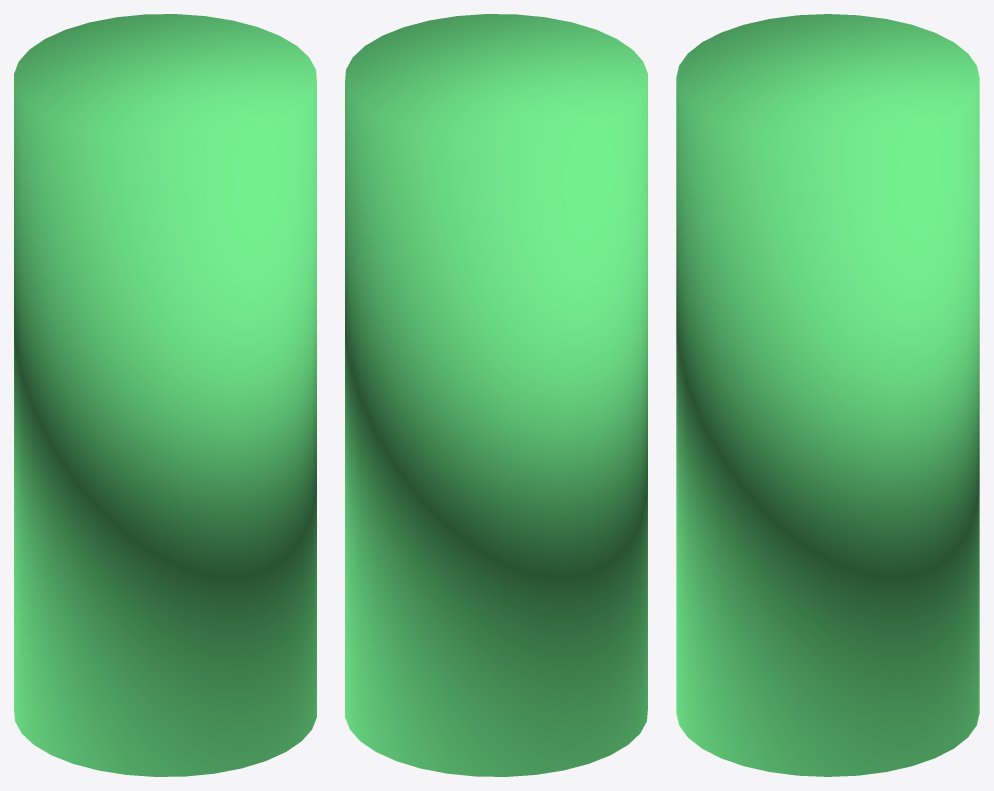
The model's file is CROSSOVER_Suspension_Spring_FL.glb.
3 views of the same model, side by side, from view 1: azimuth 30°, elevation 25°; view 2: azimuth 150°, elevation 25°; view 3: azimuth 270°, elevation 25° (orthographic).
Parts seen in each view (by area): view 1: CROSSOVER_Suspension_Spring_FL; view 2: CROSSOVER_Suspension_Spring_FL; view 3: CROSSOVER_Suspension_Spring_FL.
Boxes of the visible parts, x1,y1,x2,y2 form: CROSSOVER_Suspension_Spring_FL: (14, 14, 316, 776); CROSSOVER_Suspension_Spring_FL: (345, 14, 647, 776); CROSSOVER_Suspension_Spring_FL: (676, 14, 979, 776).
Bounding box in the file's own units: 0.104 × 0.24 × 0.104.
